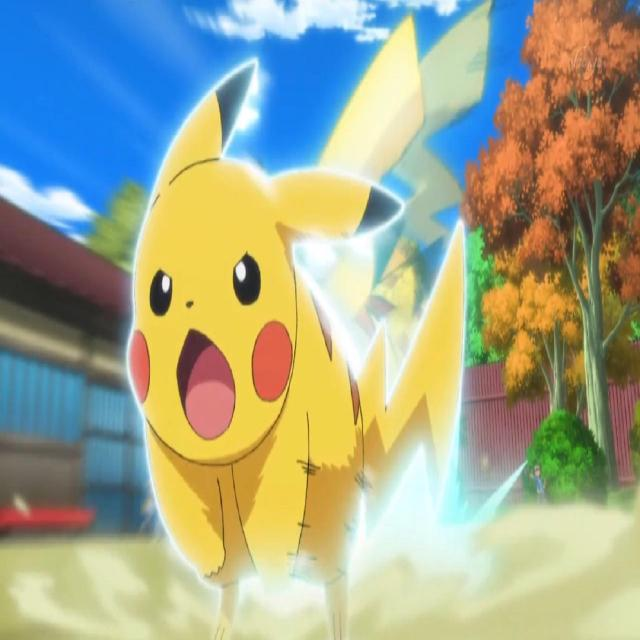pikachu: (127, 58, 466, 639)
